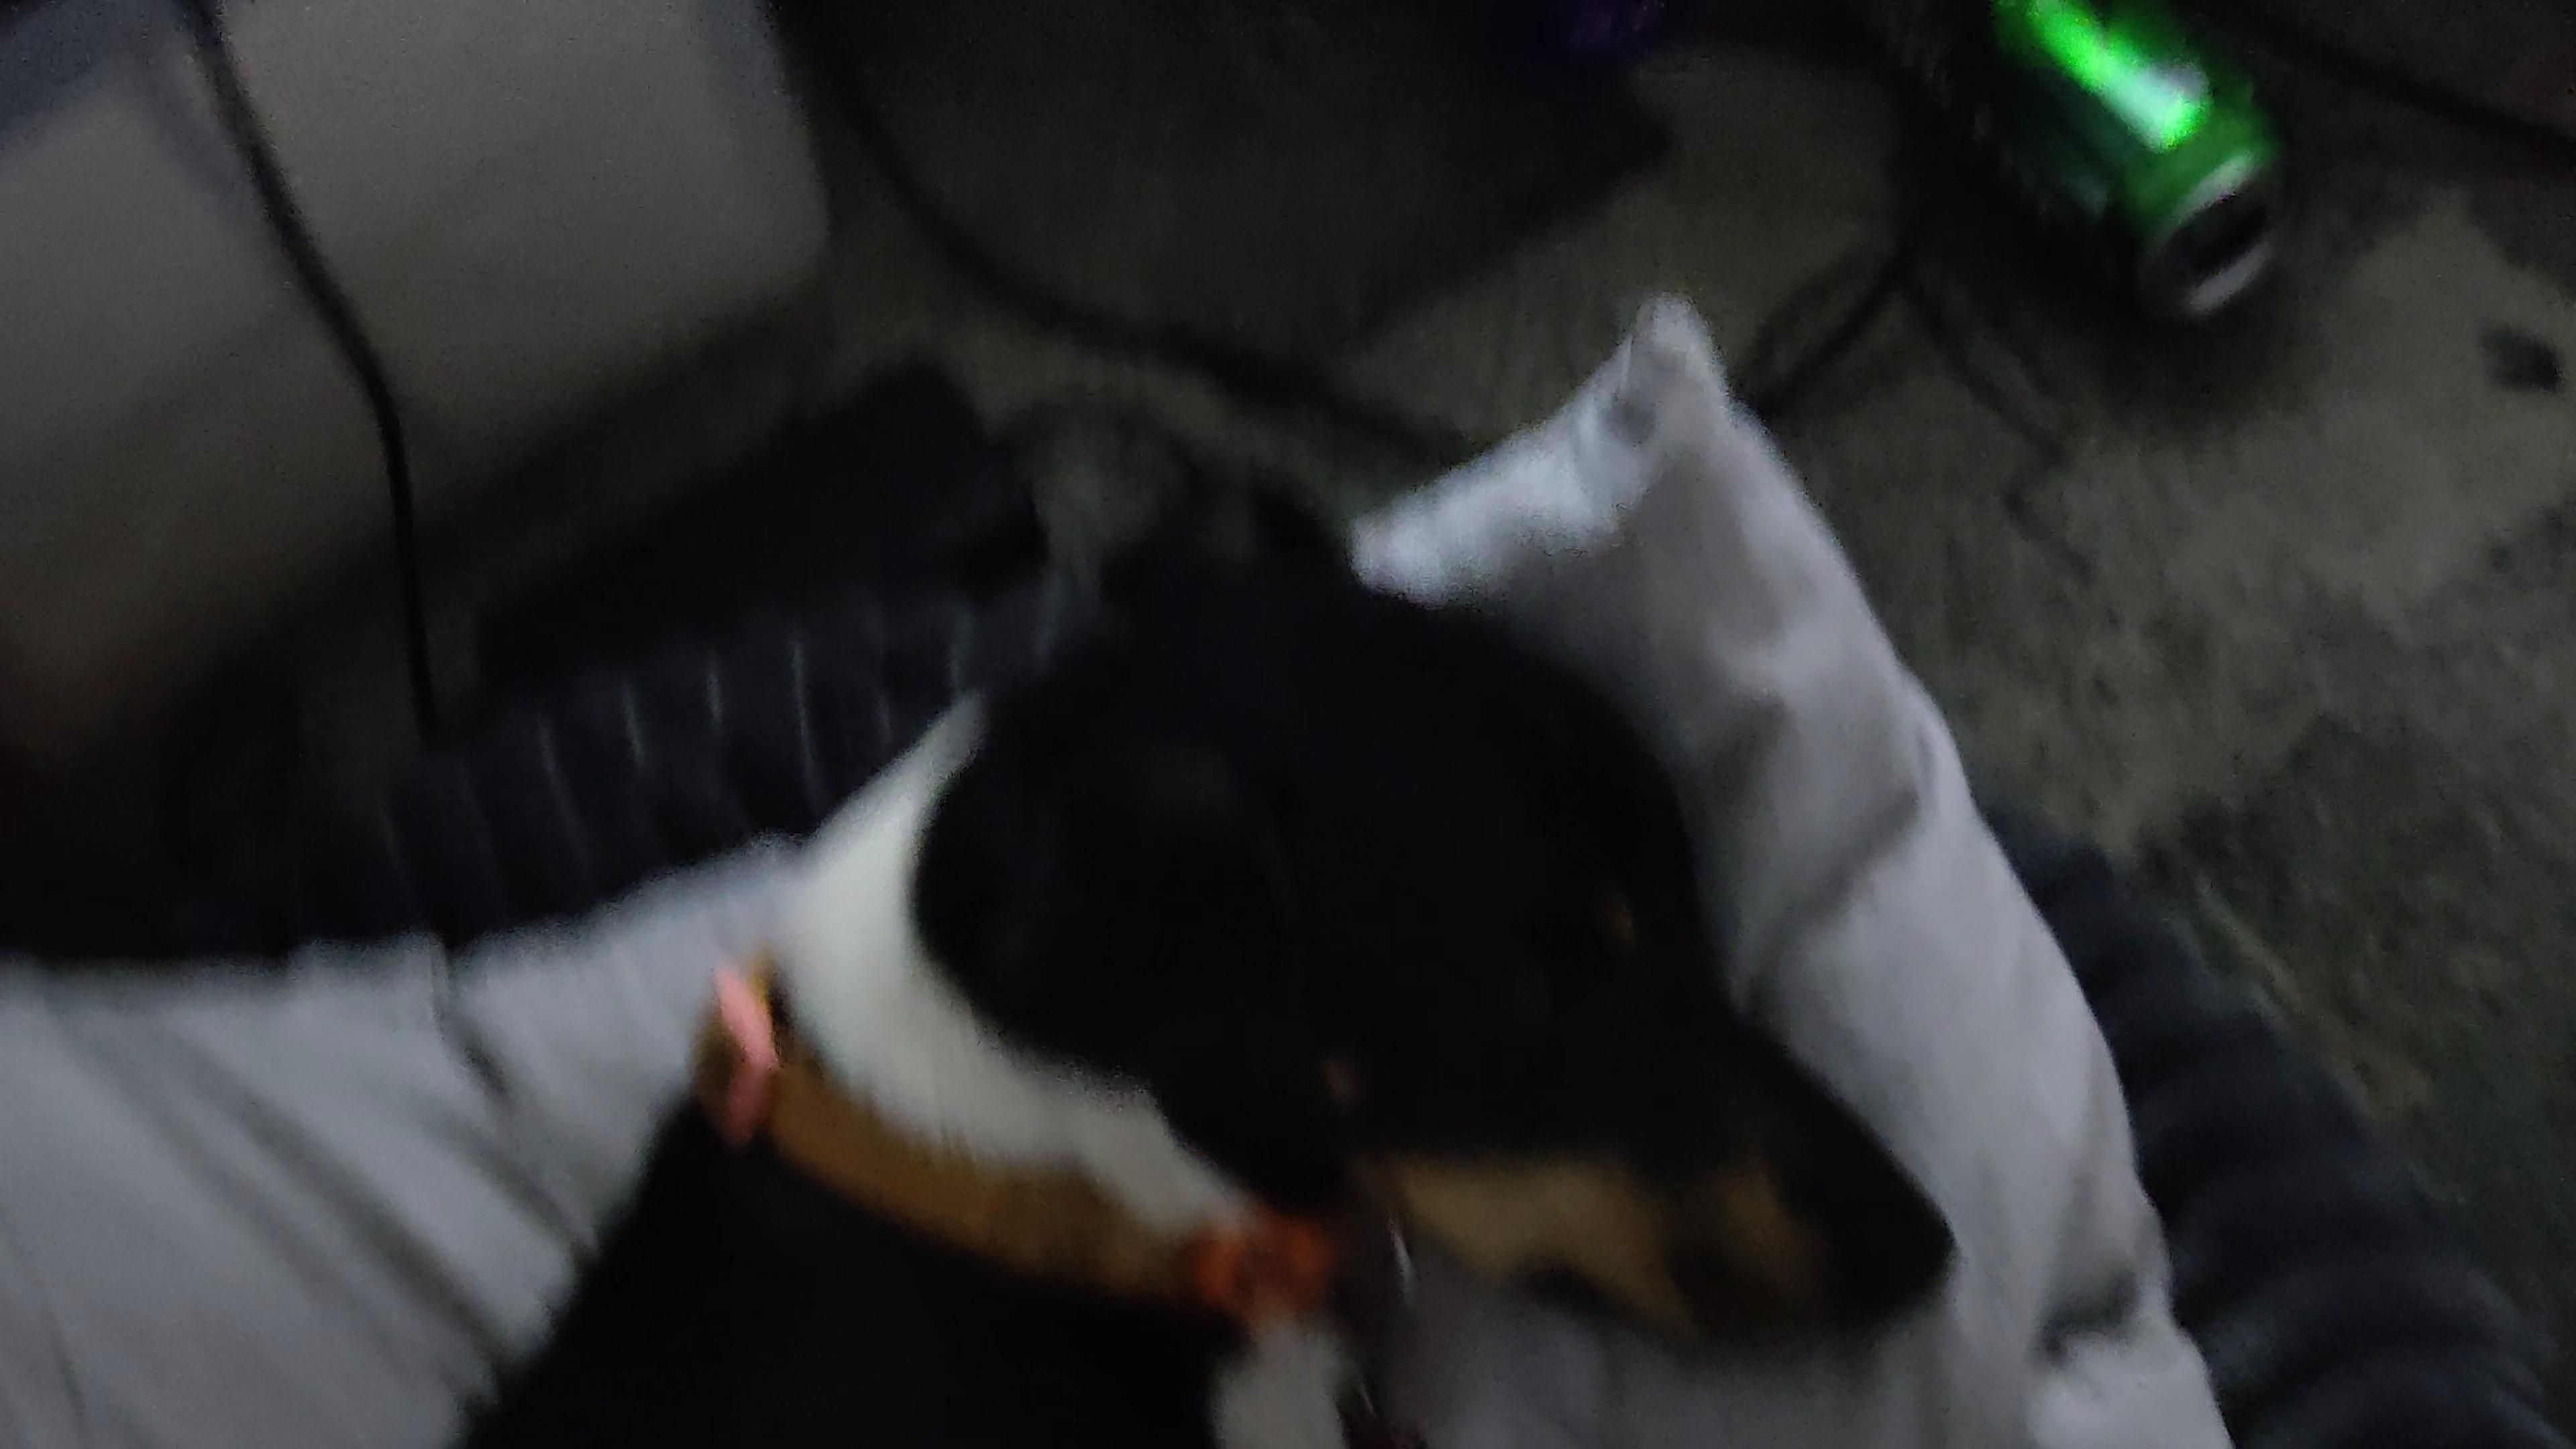Dog: (403, 425, 1989, 1449)
